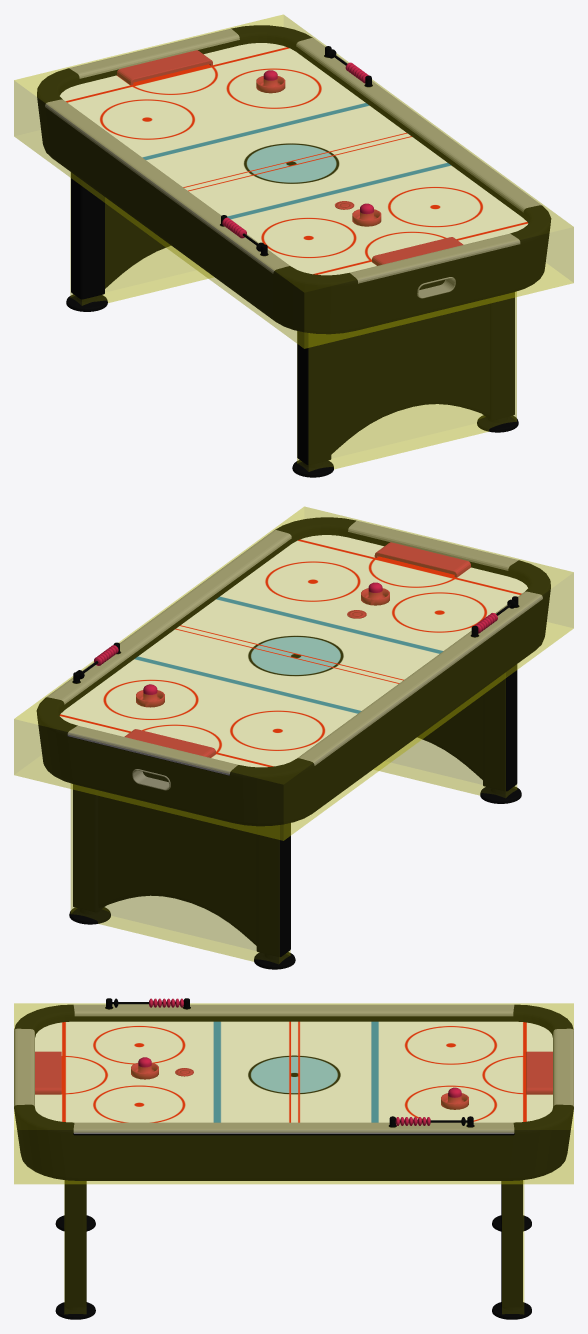
The model's file is airhockey.dae.
The picture shows the model from 3 angles, top to bottom: view 1: azimuth 30°, elevation 25°; view 2: azimuth 150°, elevation 25°; view 3: azimuth 270°, elevation 25°; orthographic projection. The views are drawn at different scales.
Visible parts, largest first — view 1: table, Cube, Cube_002, Cube_001, Goals, Airhockey1, ScoreKeepe; view 2: table, Cube, Cube_001, Cube_002, Goals, Airhockey1, ScoreKeepe; view 3: Cube, table, Cube_002, Cube_001, Goals, Airhockey1, ScoreKeepe, paddle-1, paddle-2.
Boxes of the visible parts, <box> form: table: <box>37,25,551,465</box>; Cube: <box>14,14,573,348</box>; Cube_002: <box>297,292,516,471</box>; Cube_001: <box>70,172,213,305</box>; Goals: <box>117,50,463,265</box>; Airhockey1: <box>66,294,518,477</box>; ScoreKeepe: <box>220,46,372,256</box>; table: <box>36,517,550,957</box>; Cube: <box>14,506,573,840</box>; Cube_001: <box>71,784,290,963</box>; Cube_002: <box>374,678,516,797</box>; Goals: <box>124,542,470,757</box>; Airhockey1: <box>69,786,521,969</box>; ScoreKeepe: <box>72,596,519,683</box>; Cube: <box>14,1003,573,1183</box>; table: <box>14,1004,573,1307</box>; Cube_002: <box>64,1184,86,1313</box>; Cube_001: <box>502,1180,523,1314</box>; Goals: <box>35,1051,552,1094</box>; Airhockey1: <box>55,1215,531,1319</box>; ScoreKeepe: <box>105,998,474,1127</box>; paddle-1: <box>441,1087,468,1109</box>; paddle-2: <box>131,1057,158,1079</box>.
Bounding box in the file's own units: 4.02 × 7.49 × 3.12.
Materials: 5 (1 with a texture image).
